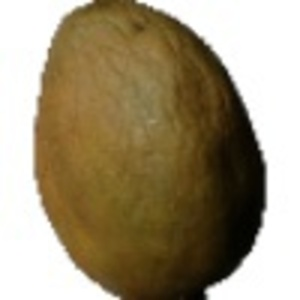mamão: (34, 2, 270, 295)
